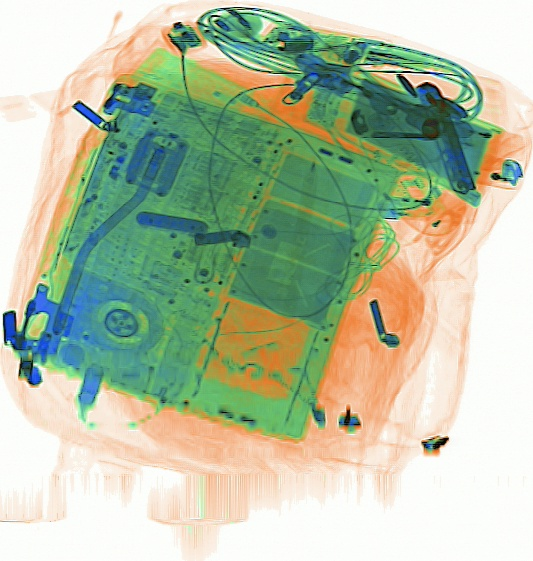knife: (420, 88, 480, 198)
lighter: (375, 190, 487, 230)
